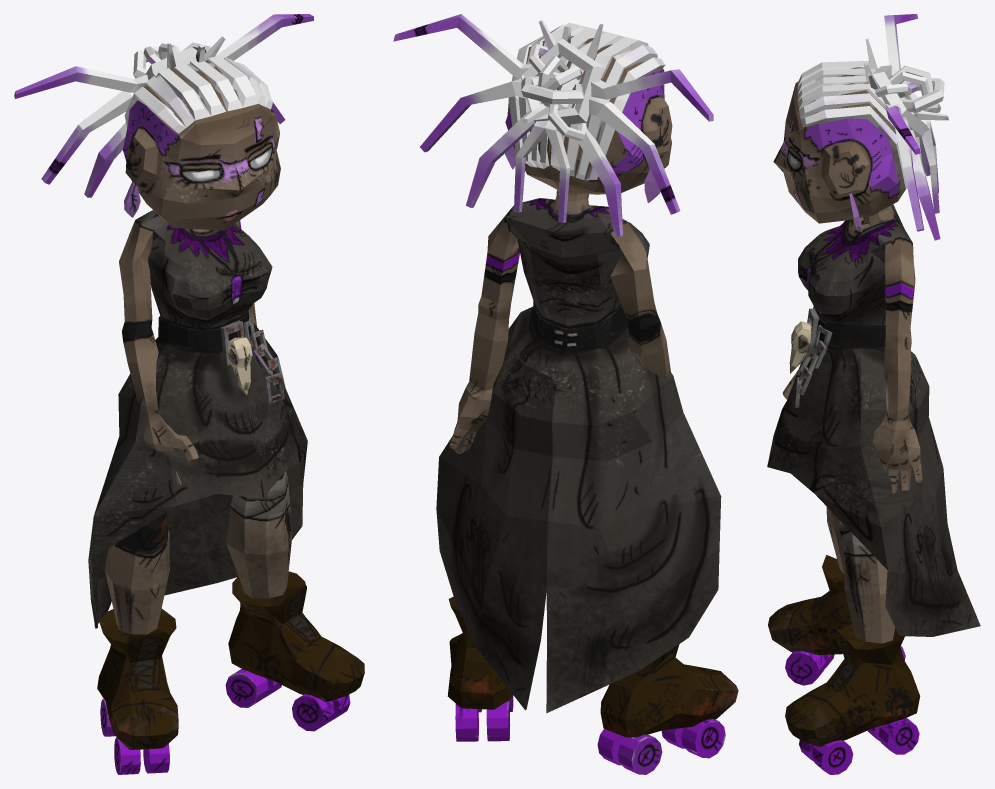
Rendered from bruja_000045.obj.
3 renders of one model, left to right at view 1: azimuth 30°, elevation 25°; view 2: azimuth 150°, elevation 25°; view 3: azimuth 270°, elevation 25°, orthographic. The views are drawn at different scales.
Visible parts, largest first — view 1: Bruja_Plane.001; view 2: Bruja_Plane.001; view 3: Bruja_Plane.001.
Part boxes in pixels (x1,y1,x2,y2): Bruja_Plane.001: (14, 14, 364, 774); Bruja_Plane.001: (393, 14, 738, 774); Bruja_Plane.001: (767, 14, 980, 774).
Bounding box in the file's own units: 7.48 × 16.58 × 4.82.
